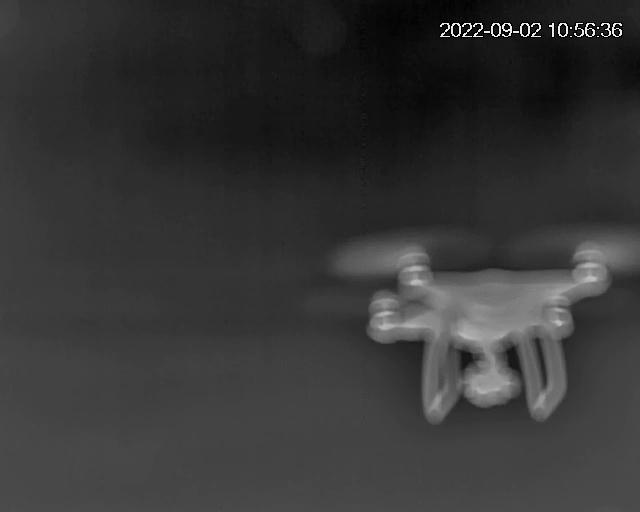DJI-Phantom: (344, 231, 640, 422)
